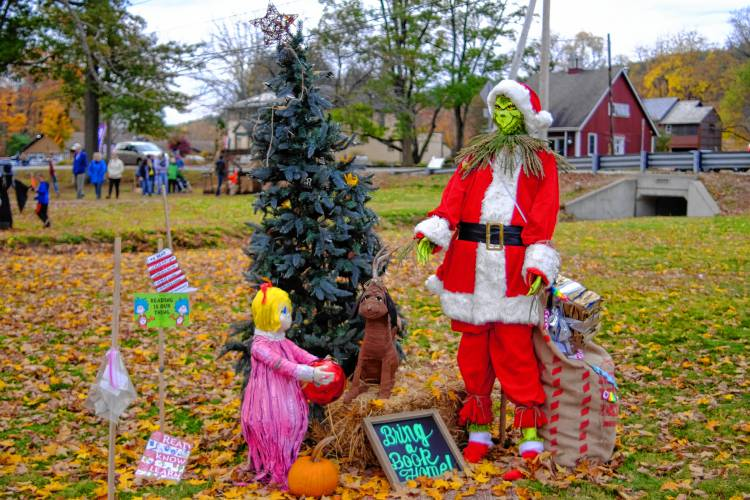person: (30, 172, 59, 233), (67, 141, 91, 202), (85, 150, 109, 201), (104, 149, 126, 202)
person-like: (402, 70, 569, 470), (234, 276, 343, 494)
